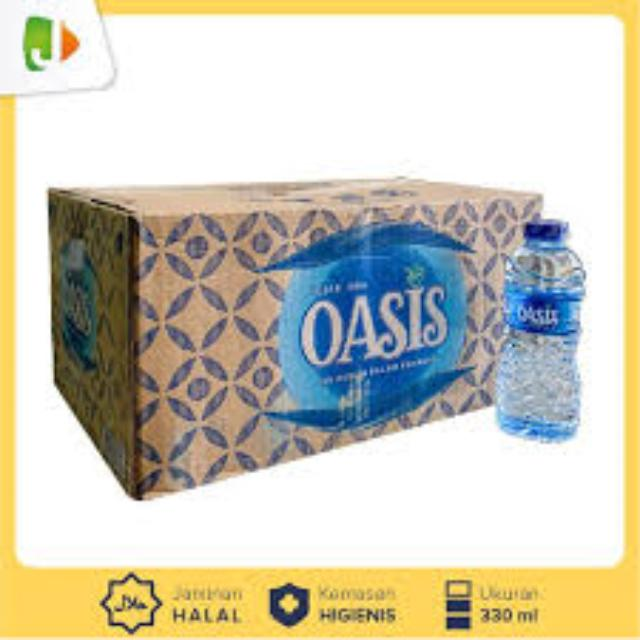trash: (492, 216, 588, 446)
